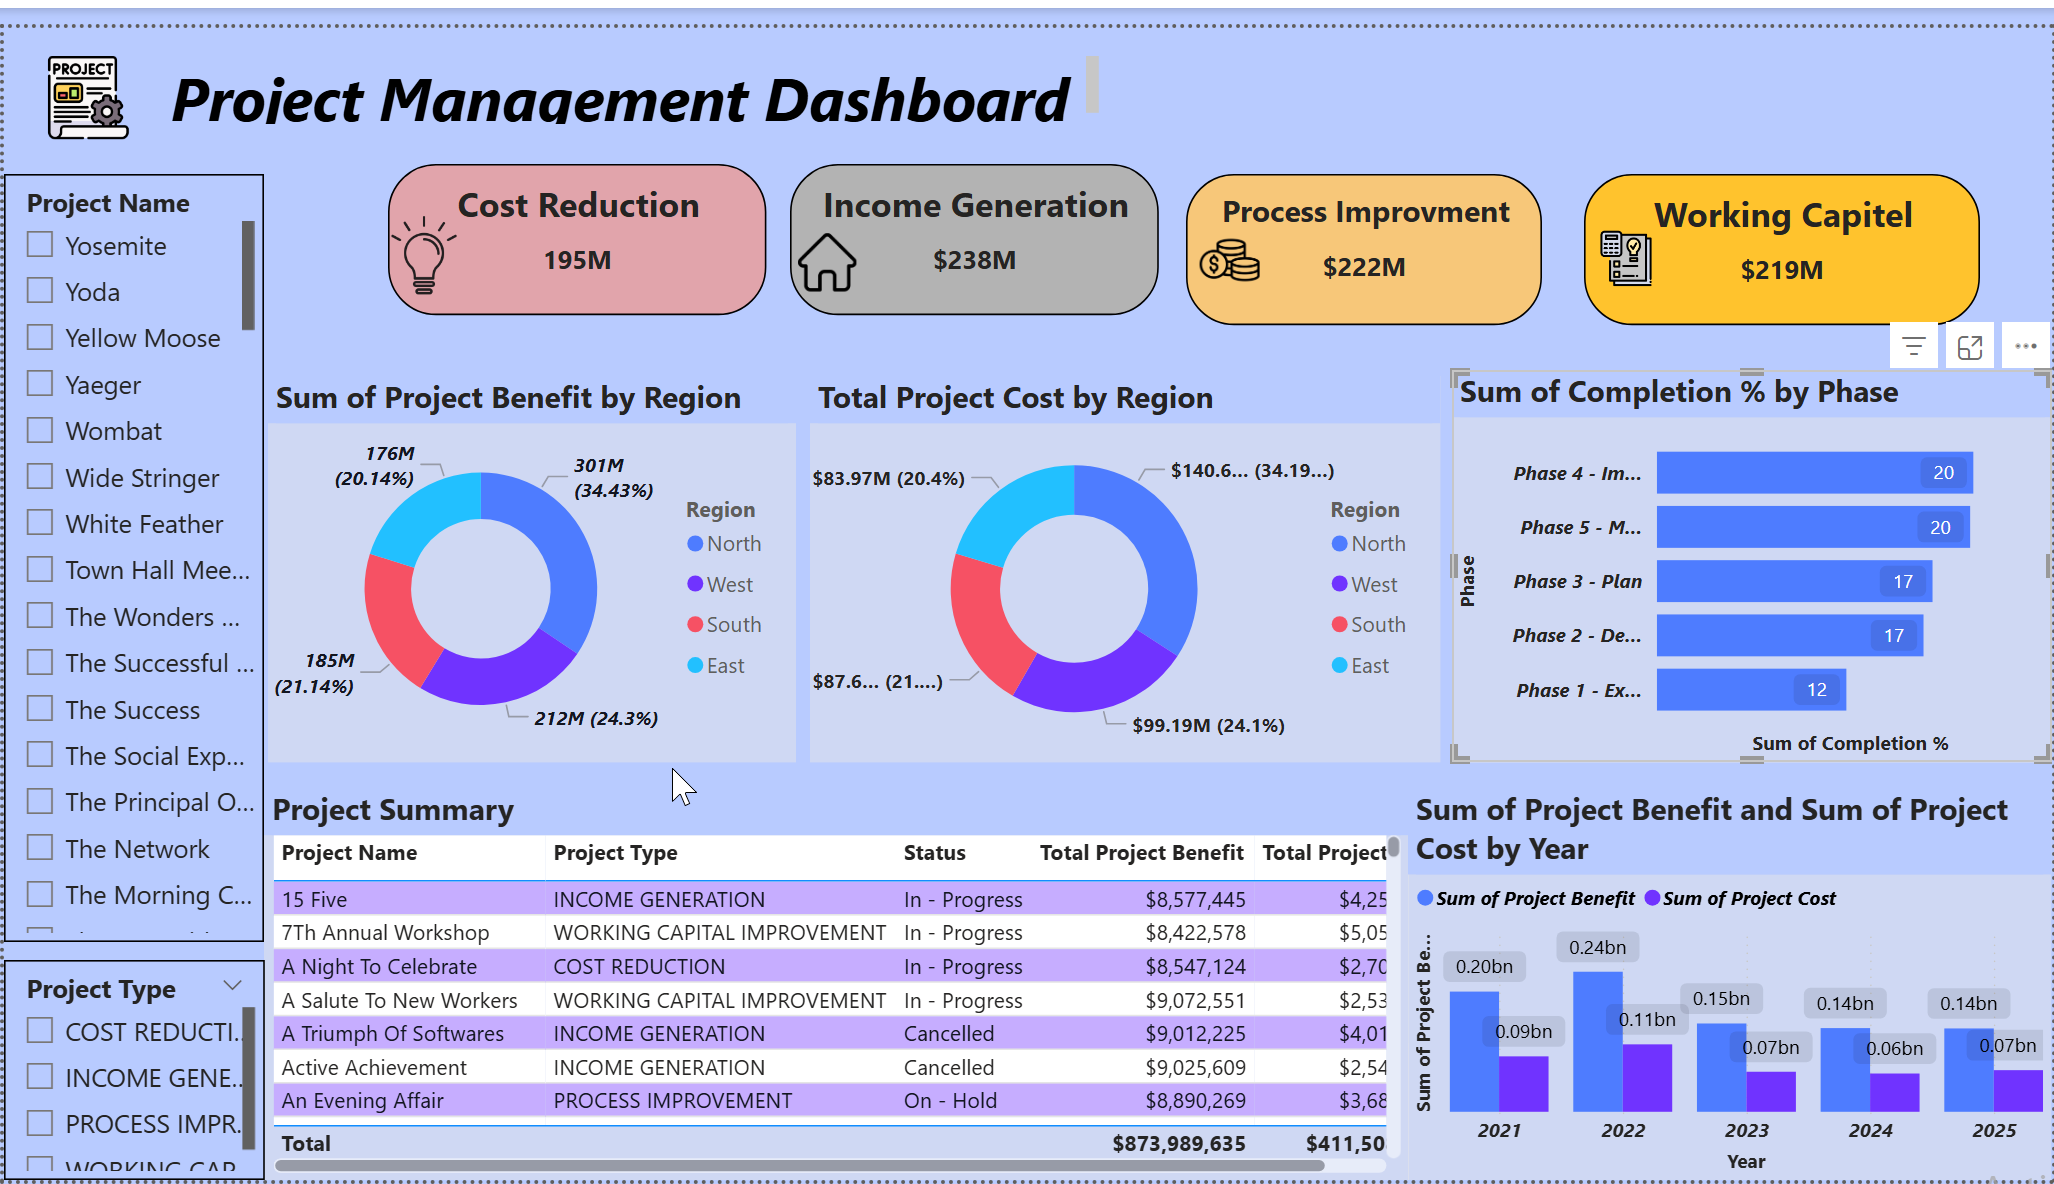

Layout of this report page (visuals, bound fields, positions):
{"tool":"powerbi","page":{"name":"Page 1","canvas":[1280,720],"ordinal":0},"visuals":[{"type":"card","title":"Cost Reduction","fields":{"Values":["Project Management Dataset.CostReduction"]},"box":[240.4,84.7,236.5,94.6],"z":0},{"type":"card","title":"Income Generation","fields":{"Values":["Project Management Dataset.IncomeGeneration"]},"box":[491.7,84.7,230.6,94.6],"z":1000},{"type":"card","title":"Working Capitel","fields":{"Values":["Project Management Dataset.WorkingCapital"]},"box":[987.3,90.7,247.3,94.6],"z":2000},{"type":"card","title":"Process Improvment ","fields":{"Values":["Project Management Dataset.ProcessImprovment"]},"box":[739,90.7,222.7,94.6],"z":3000},{"type":"barChart","fields":{"Category":["Project Management Dataset.Phase"],"Y":["Project Management Dataset.Completion %"]},"box":[904.6,213.8,375.4,245.4],"z":4000},{"type":"tableEx","title":"Project Summary","fields":{"Values":["Project Management Dataset.Project Name","Project Management Dataset.Project Type","Project Management Dataset.Status","Project Management Dataset.Total Project Benefit","Project Management Dataset.Total Project Cost"]},"box":[162.6,474.9,715.4,245.4],"z":5000},{"type":"donutChart","fields":{"Y":["Sum(Project Management Dataset.Project Benefit)"],"Category":["Project Management Dataset.Region"]},"box":[165.5,217.8,330.1,241.4],"z":6000},{"type":"donutChart","fields":{"Category":["Project Management Dataset.Region"],"Y":["Project Management Dataset.Total Project Cost"]},"box":[503.5,217.8,394.1,241.4],"z":7000},{"type":"clusteredColumnChart","fields":{"Y":["Sum(Project Management Dataset.Project Benefit)","Sum(Project Management Dataset.Project Cost)"],"Category":["Project Management Dataset.Year"]},"box":[878,474.9,402,245.4],"z":8000},{"type":"image","box":[987.3,118.2,52.2,50.3],"z":9000},{"type":"image","box":[739,121.2,54.2,47.3],"z":10000},{"type":"image","box":[491.7,121.2,46.3,50.3],"z":11000},{"type":"image","box":[232.5,112.3,60.1,59.1],"z":12000},{"type":"textbox","box":[89.1,12.4,600.4,52],"z":13000},{"type":"image","box":[18.6,12.4,68.1,61.9],"z":14000},{"type":"slicer","fields":{"Values":["Project Management Dataset.Project Type"]},"box":[0,581.9,162.8,137.6],"z":15000},{"type":"slicer","title":"Select Projects:","fields":{"Values":["Project Management Dataset.Project Name"]},"box":[0,90.7,162.6,479.9],"z":16000}]}

Visuals, with their boxes on the page's 1280x720 design canvas (x1, y1, x2, y2). These are canvas units, not pixel positions in the 2054x1184 screenshot, which may show the page scaled, cropped or inside an application window:
"Cost Reduction" card: 240/85/477/179
"Income Generation" card: 492/85/722/179
"Working Capitel" card: 987/91/1235/185
"Process Improvment " card: 739/91/962/185
barChart - Project Management Dataset.Phase x Project Management Dataset.Completion %: 905/214/1280/459
"Project Summary" tableEx: 163/475/878/720
donutChart - Sum(Project Management Dataset.Project Benefit) x Project Management Dataset.Region: 166/218/496/459
donutChart - Project Management Dataset.Region x Project Management Dataset.Total Project Cost: 504/218/898/459
clusteredColumnChart - Sum(Project Management Dataset.Project Benefit) x Sum(Project Management Dataset.Project Cost): 878/475/1280/720
image: 987/118/1040/168
image: 739/121/793/168
image: 492/121/538/172
image: 232/112/293/171
textbox: 89/12/690/64
image: 19/12/87/74
slicer - Project Management Dataset.Project Type: 0/582/163/720
"Select Projects:" slicer: 0/91/163/571
